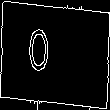O_S: (44, 27, 66, 83)
